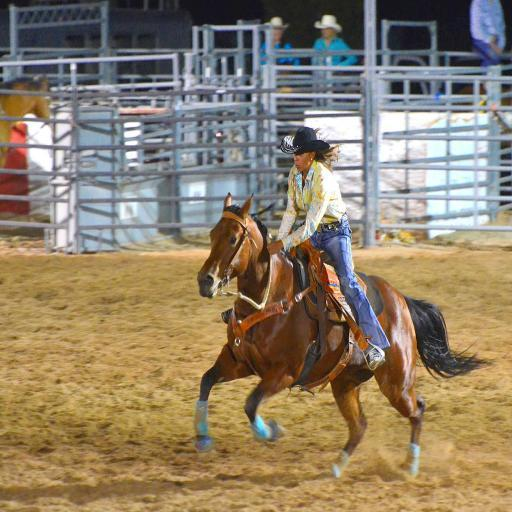horse: (192, 191, 498, 481)
